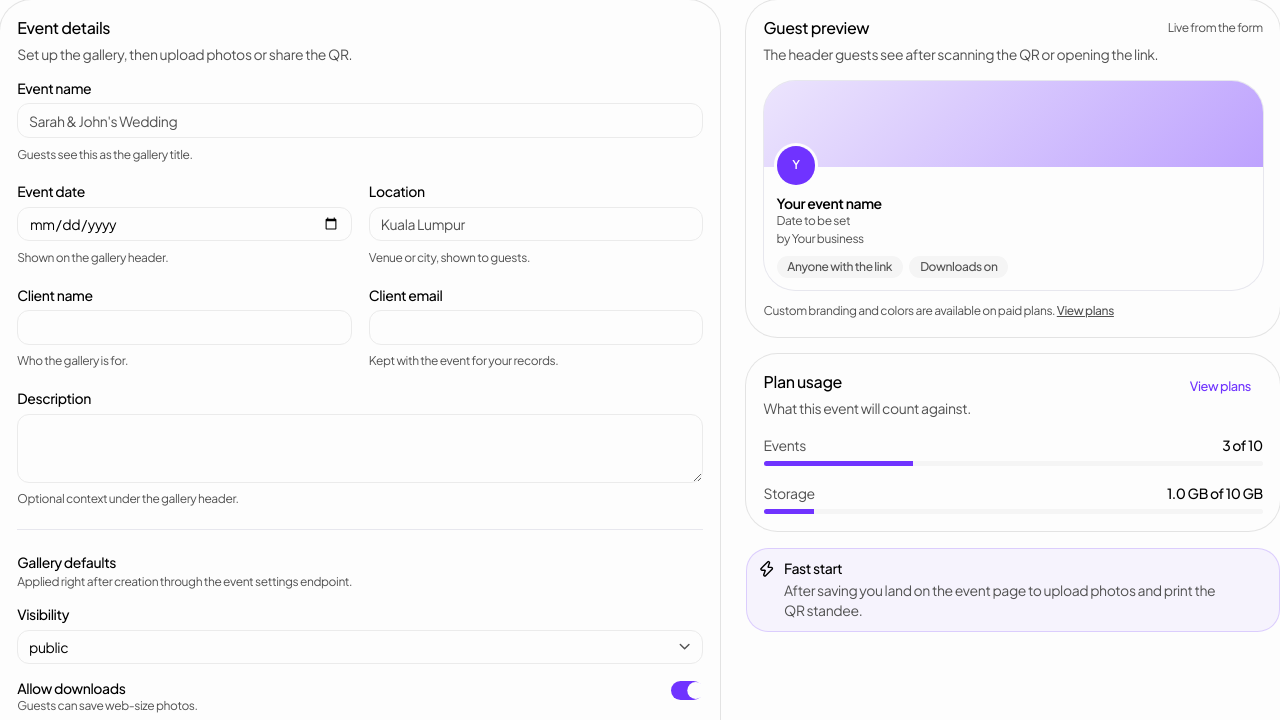
it: EventForm › previews the event from the form values
In the field labelled "Event name": (360, 121) x1=17 y1=104 x2=703 y2=138, type "Sarah's Birthday"
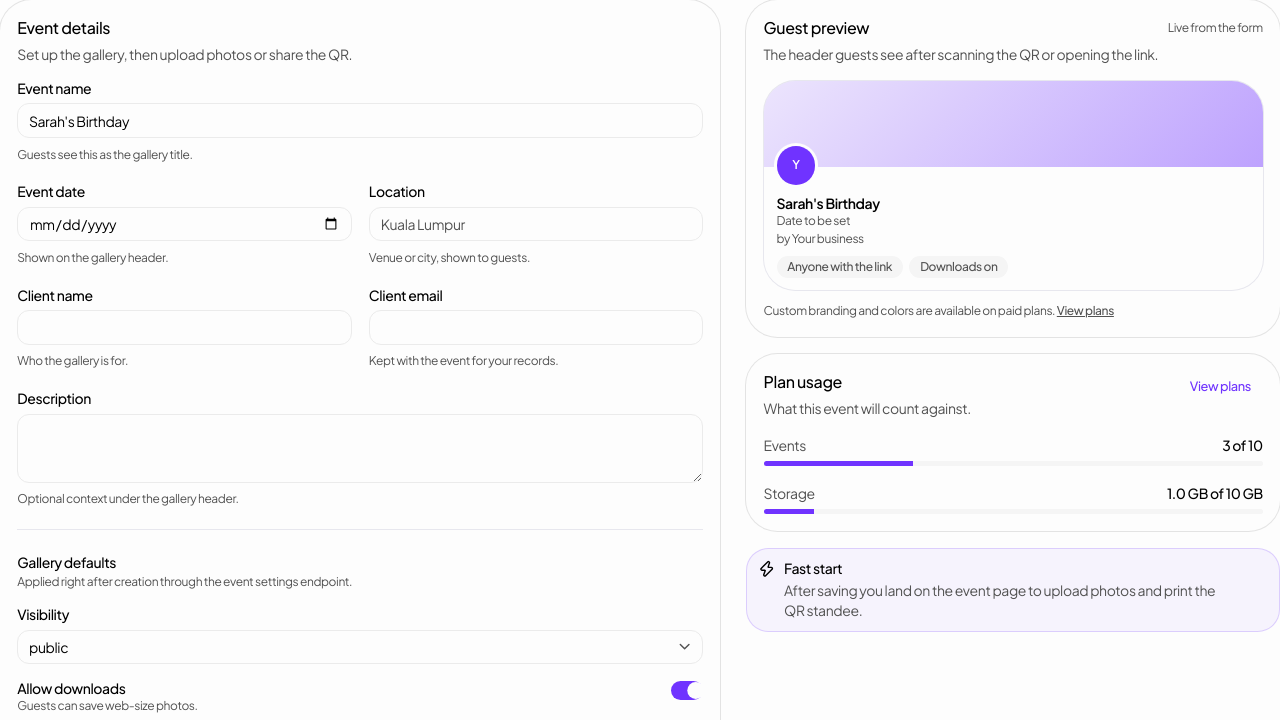
In the field labelled "Location": (536, 224) x1=369 y1=207 x2=703 y2=241, type "Petaling Jaya"
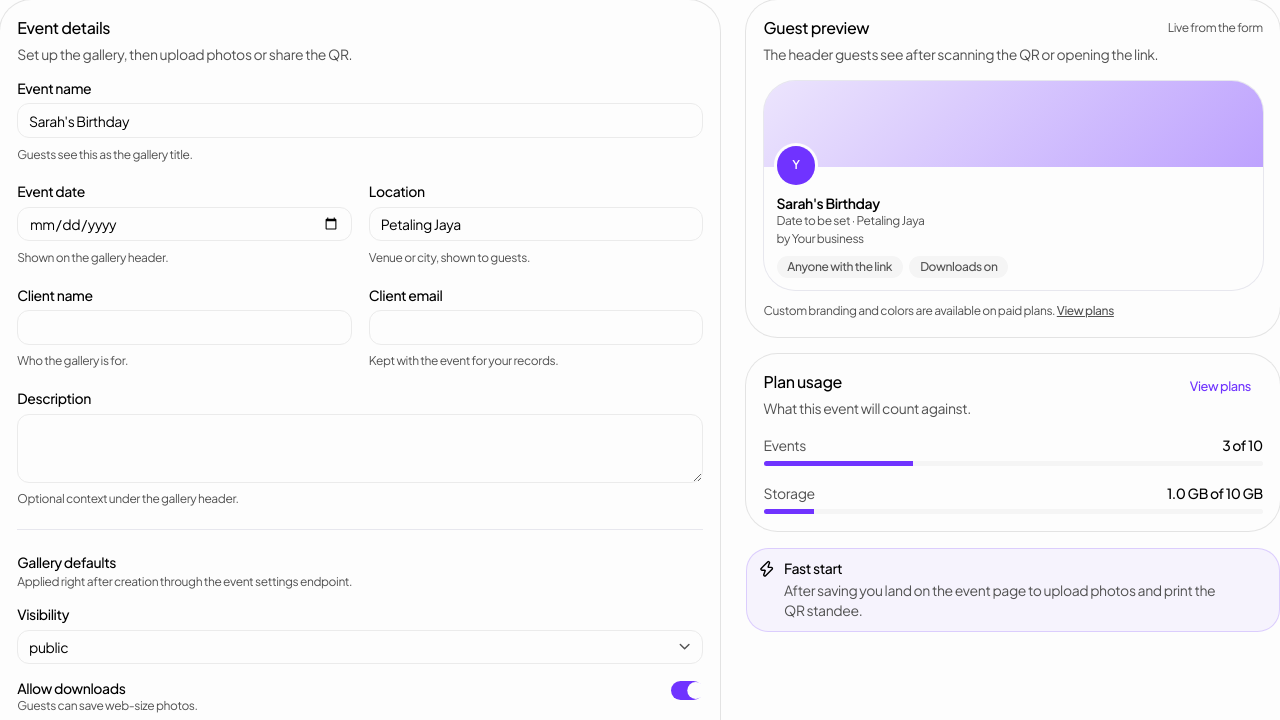
Expected: the text "Anyone with the link" is shown, x1=776 y1=256 x2=903 y2=278
Now the text "Sarah's Birthday" is shown, box x1=776 y1=194 x2=880 y2=212
Now the text "Date to be set · Petaling Jaya" is shown, box x1=776 y1=213 x2=924 y2=228
